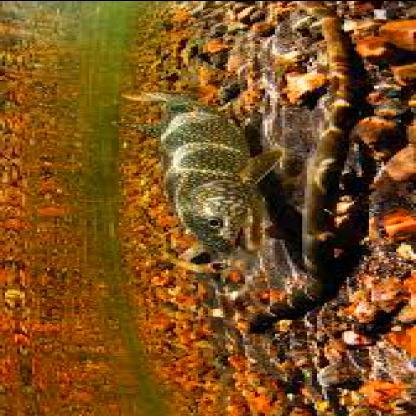fish: (114, 84, 272, 256)
